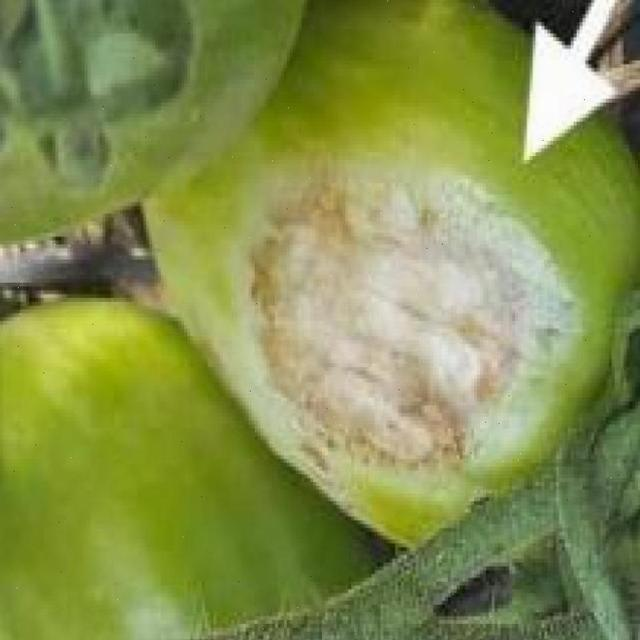Sunscald Fruit: (148, 95, 388, 333)
